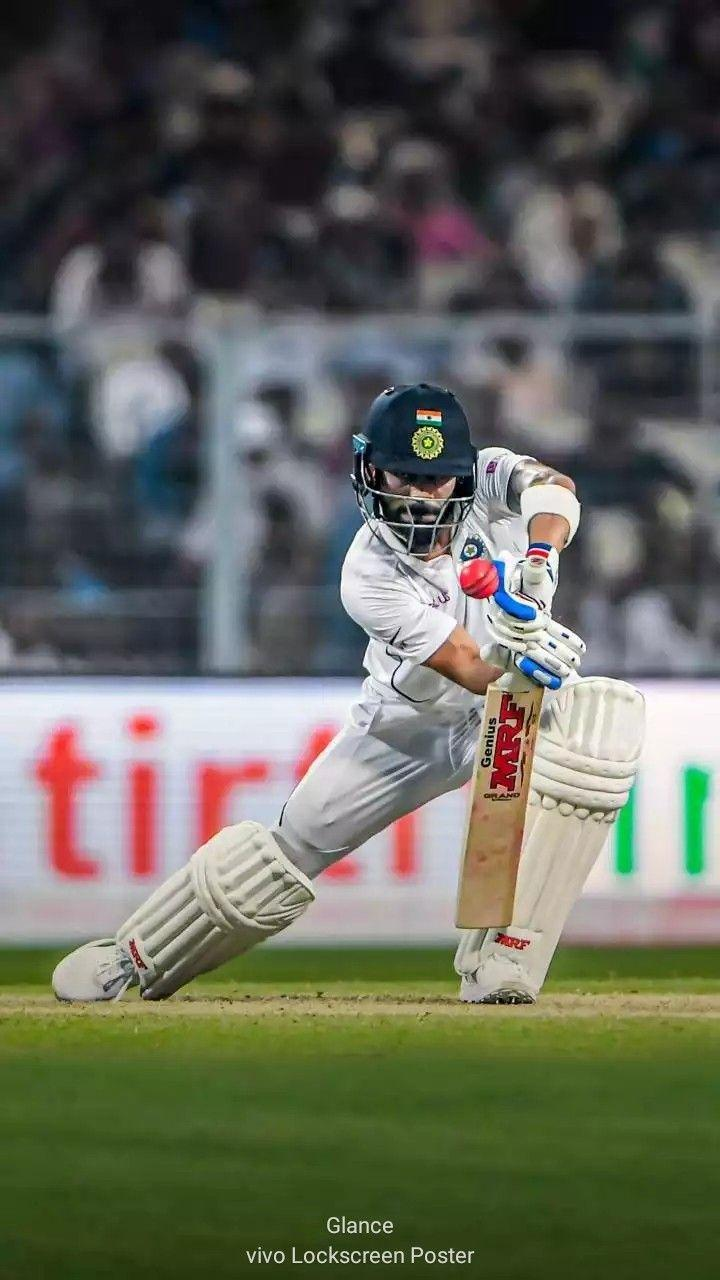batsman: (38, 406, 650, 988)
